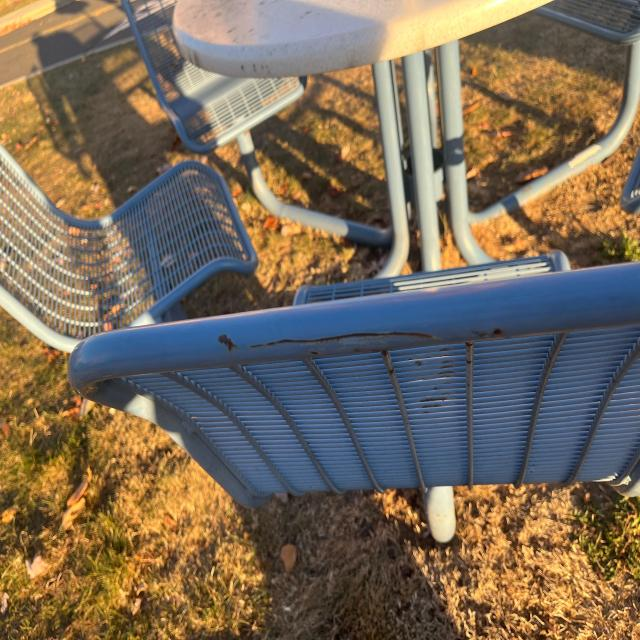Filiform Corrosion: (250, 328, 566, 350), (219, 334, 241, 353)
